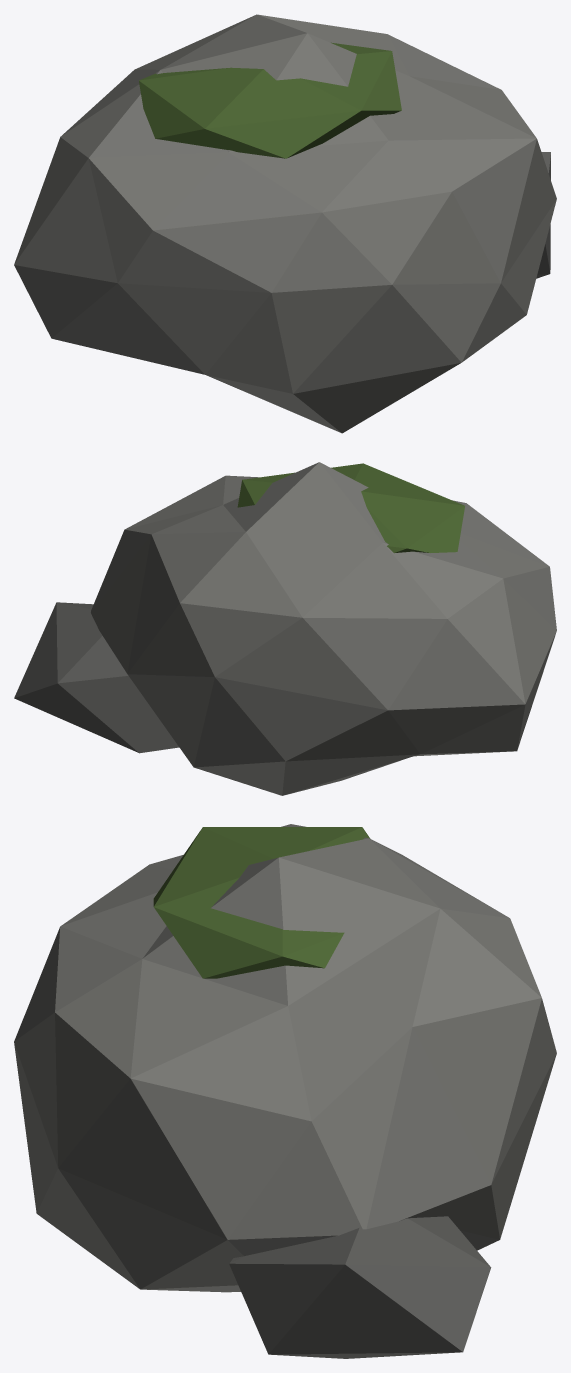
File: RockLarge.glb
The picture shows the model from 3 angles, top to bottom: view 1: azimuth 30°, elevation 25°; view 2: azimuth 150°, elevation 25°; view 3: azimuth 270°, elevation 25°; orthographic projection. The views are drawn at different scales.
Visible parts, largest first — view 1: RockLarge; view 2: RockLarge; view 3: RockLarge.
Boxes of the visible parts, x1,y1,x2,y2 form: RockLarge: [14, 14, 556, 433]; RockLarge: [14, 462, 556, 795]; RockLarge: [14, 824, 556, 1358].
Size of the model in its own units: 9.07 by 5.73 by 6.62.
